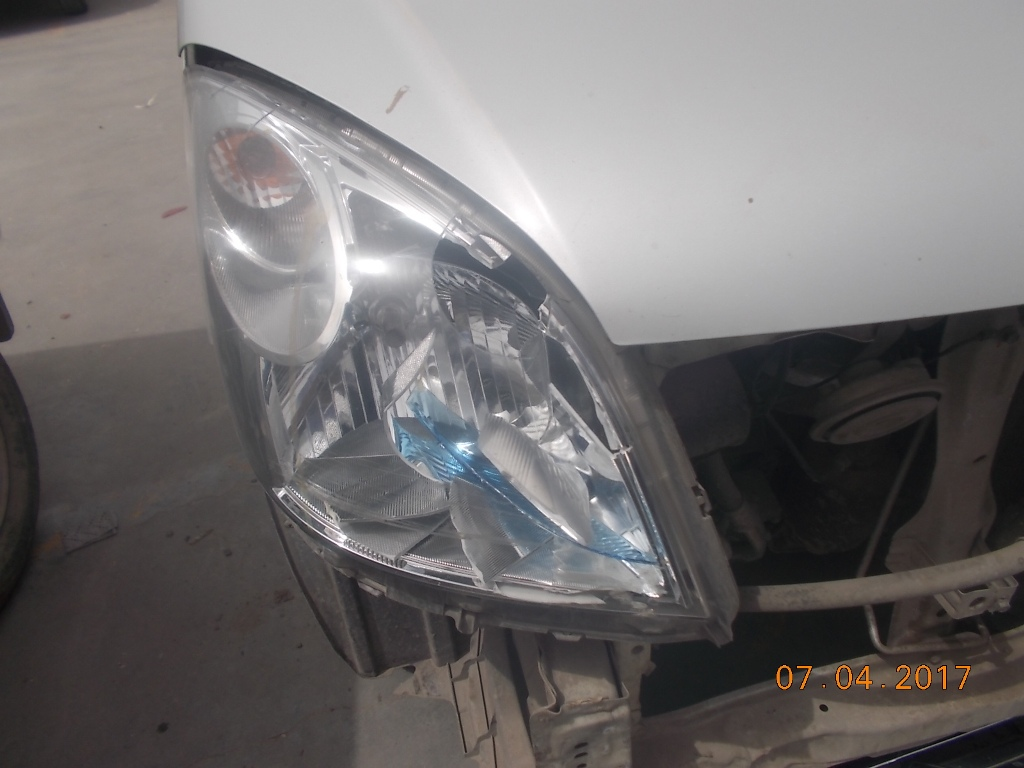Large_tear_or_damage: (227, 415, 1023, 728)
